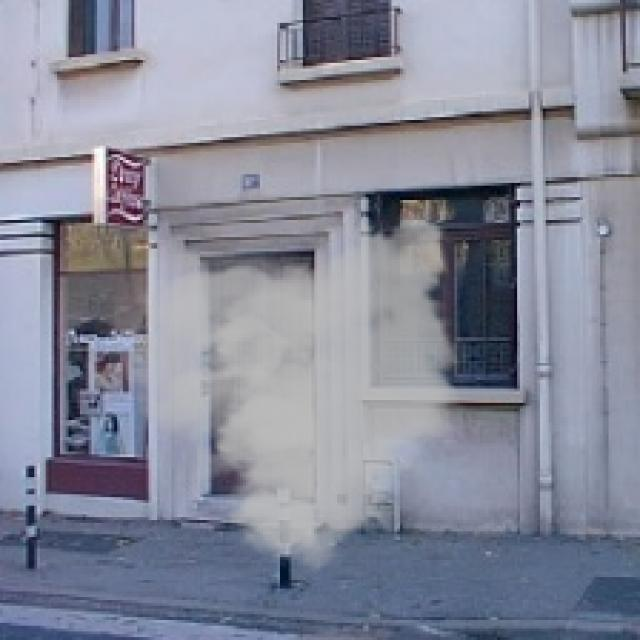smoke: (114, 194, 472, 583)
